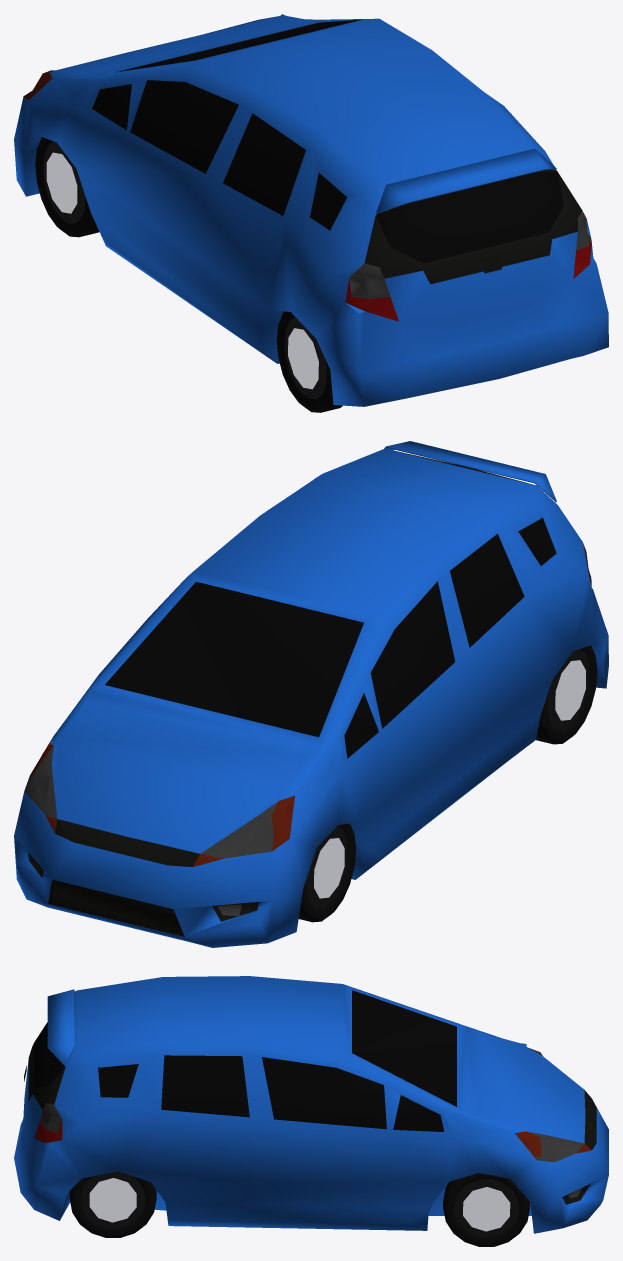
Rendered from hondafit.obj.
3 views of the same model, one above another, from view 1: azimuth 30°, elevation 25°; view 2: azimuth 150°, elevation 25°; view 3: azimuth 270°, elevation 25° (orthographic). The views are drawn at different scales.
Visible parts, largest first — view 1: Fit_Body, Fit_Spoiler, FM4_Wheel_RR, FM4_Wheel_RF, FM4_Tire_RR, FM4_Tire_RF; view 2: Fit_Body, FM4_Wheel_RR, FM4_Wheel_RF, Fit_Spoiler, FM4_Tire_RR, FM4_Tire_RF; view 3: Fit_Body, FM4_Wheel_LF, FM4_Wheel_LR, FM4_Tire_LF, Fit_Spoiler, FM4_Tire_LR.
Part boxes in pixels (<box>): Fit_Body: <box>14,14,608,406</box>; Fit_Spoiler: <box>376,148,556,213</box>; FM4_Wheel_RR: <box>285,317,326,399</box>; FM4_Wheel_RF: <box>44,141,85,223</box>; FM4_Tire_RR: <box>276,311,342,412</box>; FM4_Tire_RF: <box>35,137,99,237</box>; Fit_Body: <box>14,449,608,947</box>; FM4_Wheel_RR: <box>547,649,588,730</box>; FM4_Wheel_RF: <box>305,826,347,908</box>; Fit_Spoiler: <box>384,441,556,501</box>; FM4_Tire_RR: <box>536,645,597,744</box>; FM4_Tire_RF: <box>298,823,356,922</box>; Fit_Body: <box>14,976,608,1233</box>; FM4_Wheel_LF: <box>454,1179,519,1237</box>; FM4_Wheel_LR: <box>80,1171,145,1228</box>; FM4_Tire_LF: <box>443,1173,529,1246</box>; Fit_Spoiler: <box>47,989,74,1066</box>; FM4_Tire_LR: <box>69,1176,156,1237</box>.
Size of the model in its own units: 1.71 by 1.43 by 4.05.
